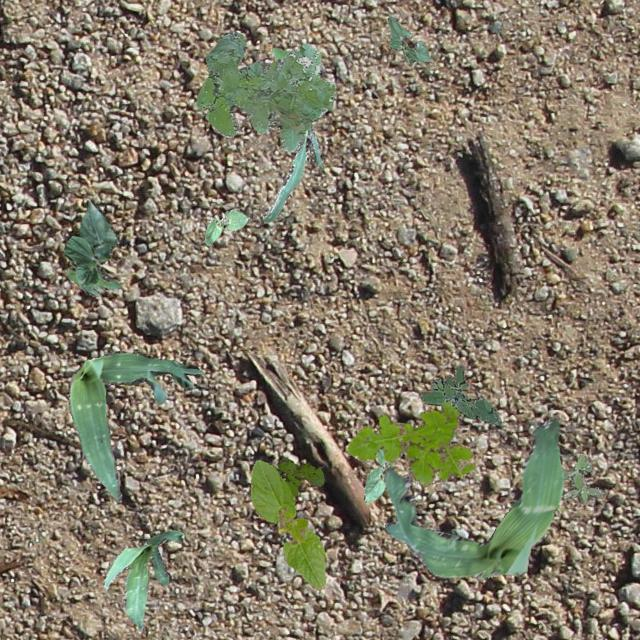crop: (382, 416, 564, 576), (68, 350, 200, 500), (262, 46, 324, 222), (250, 458, 324, 588), (102, 528, 182, 630), (63, 198, 119, 296), (386, 15, 429, 62), (204, 208, 248, 245), (362, 448, 390, 502)
weed: (194, 31, 334, 150), (344, 400, 474, 486), (420, 364, 500, 424), (562, 452, 604, 503), (276, 458, 324, 497)
